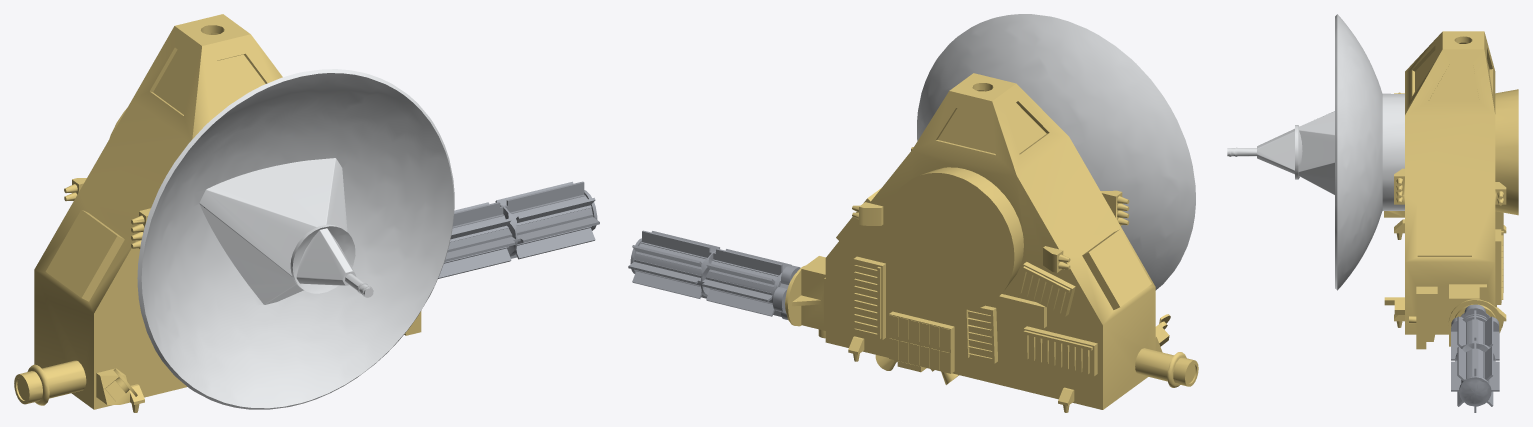
The model's file is new-horizons.glb.
3 views of the same model, side by side, from view 1: azimuth 30°, elevation 25°; view 2: azimuth 150°, elevation 25°; view 3: azimuth 270°, elevation 25° (orthographic). The views are drawn at different scales.
Visible parts, largest first — view 1: foil, body; view 2: foil, body; view 3: foil, body.
Boxes of the visible parts, left/top/right/bottom form: foil: left=14, top=14, right=454, bottom=412; body: left=438, top=181, right=599, bottom=278; foil: left=785, top=14, right=1198, bottom=412; body: left=628, top=230, right=800, bottom=319; foil: left=1227, top=14, right=1518, bottom=349; body: left=1451, top=304, right=1499, bottom=412.
Size of the model in its own units: 7.79 by 4.41 by 4.36.
